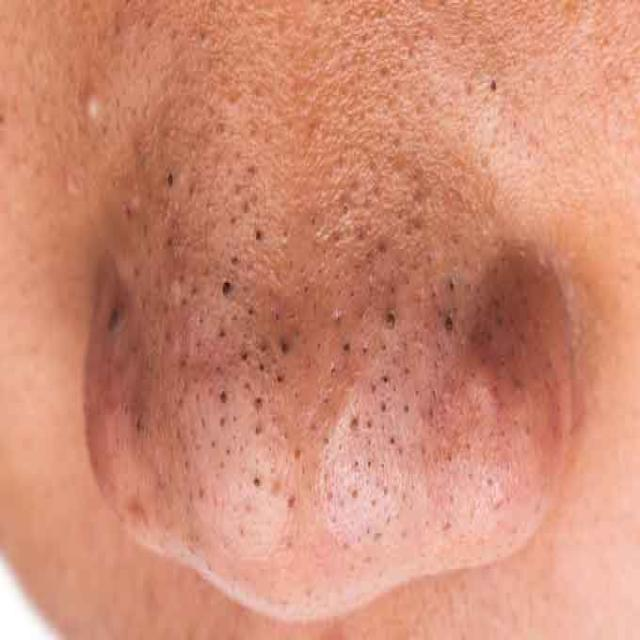Acne: (80, 12, 552, 618)
